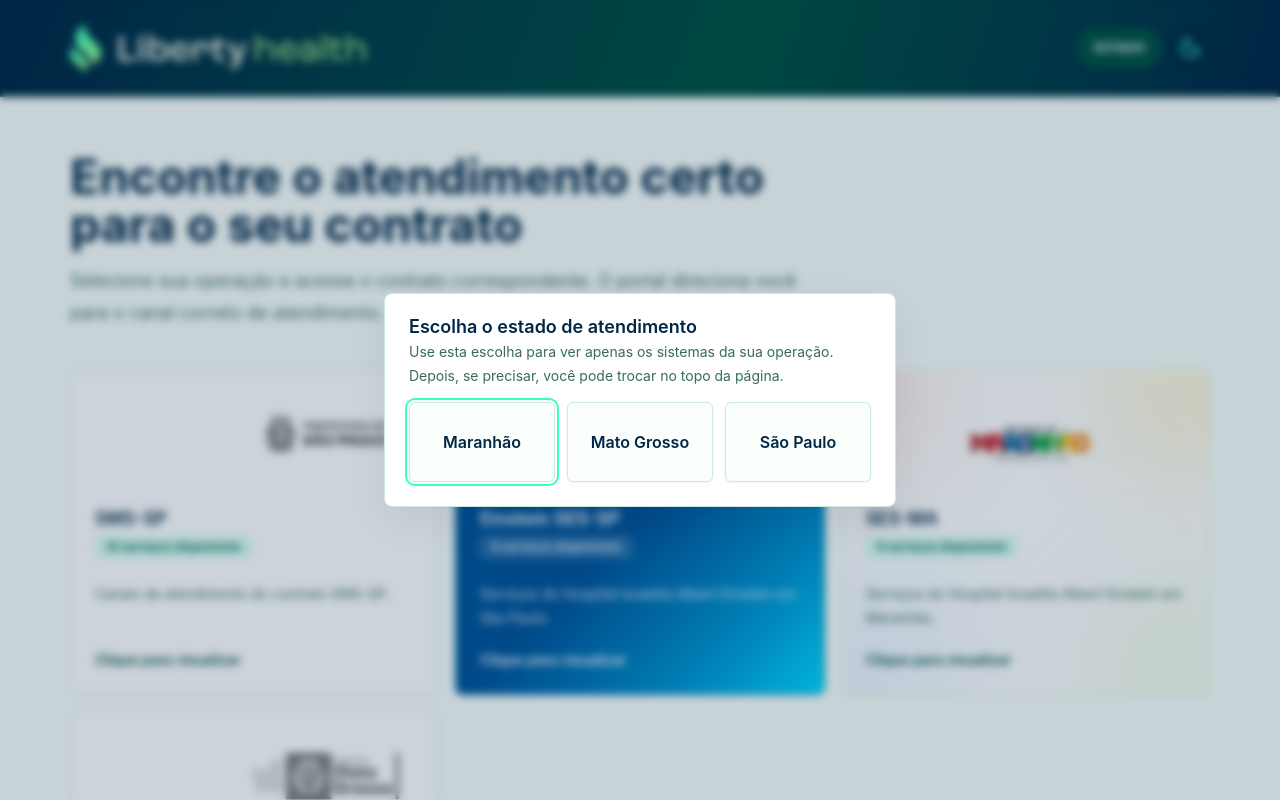
Test: HomePage › asks for state on first access and filters contracts after selection
Expected: the dialog "Escolha o estado de atendimento" is shown, x1=384 y1=293 x2=896 y2=507
Expected: the text "Use esta escolha para ver apenas os sistemas da sua operação." is shown, x1=409 y1=342 x2=871 y2=362
What coordinates should you click on to do the following:
click the button "São Paulo"
I would click on:
 (798, 442)
Its box is x1=725 y1=402 x2=871 y2=482.
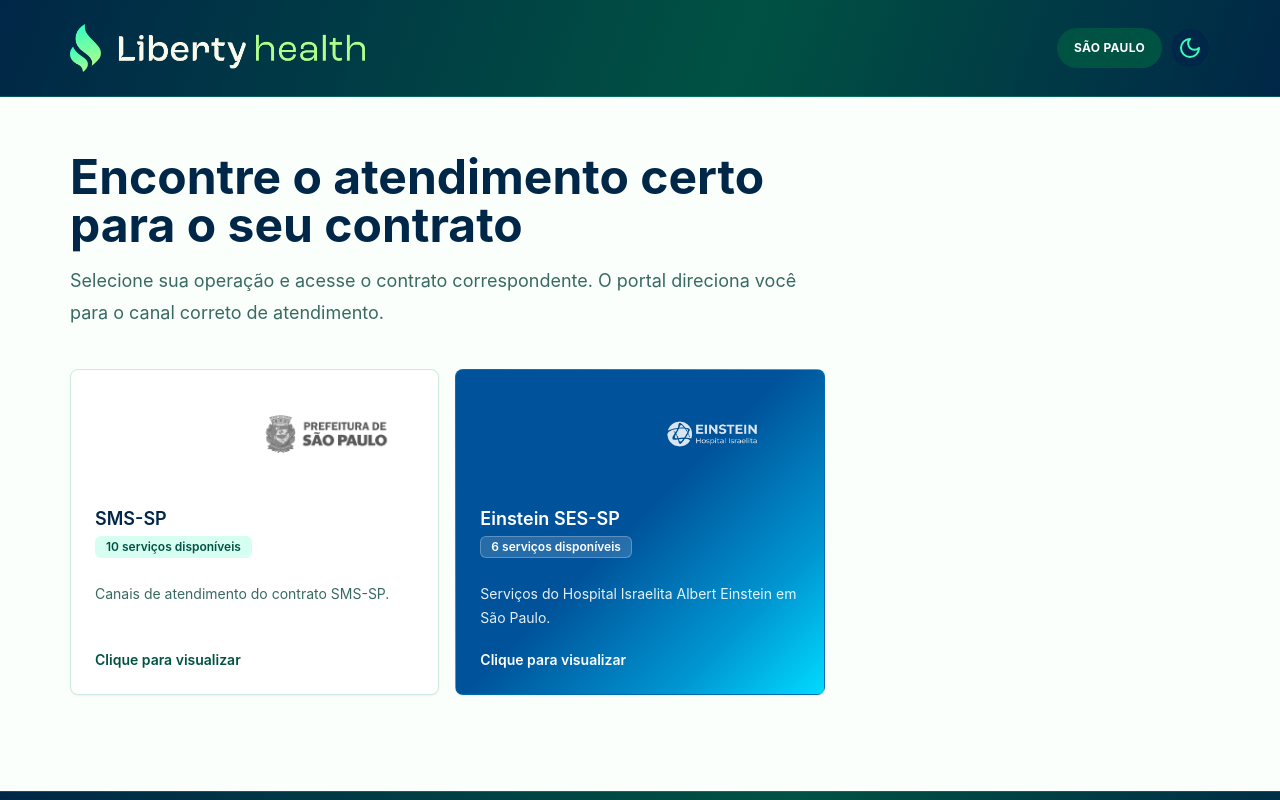
Expected: the heading "SMS-SP" is shown, x1=95 y1=508 x2=167 y2=529
Result: the link "SES-MA" is gone
